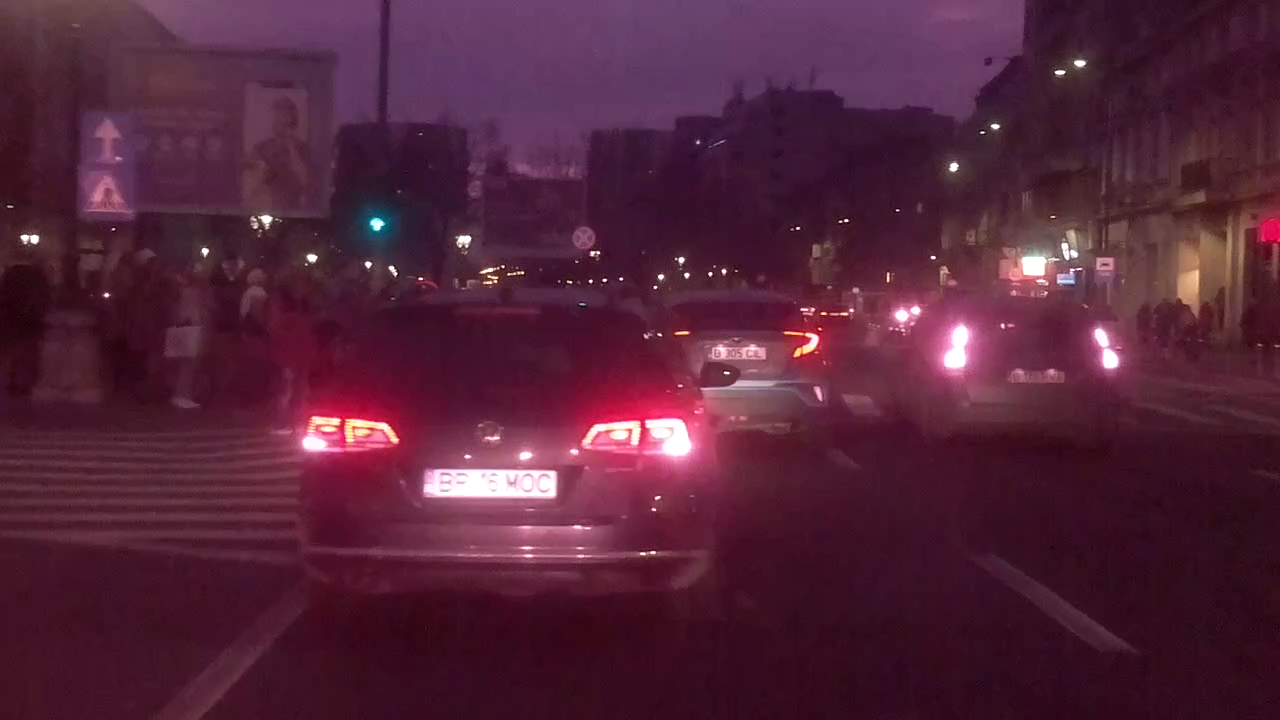license-plate: (417, 464, 560, 502), (703, 344, 769, 362)
